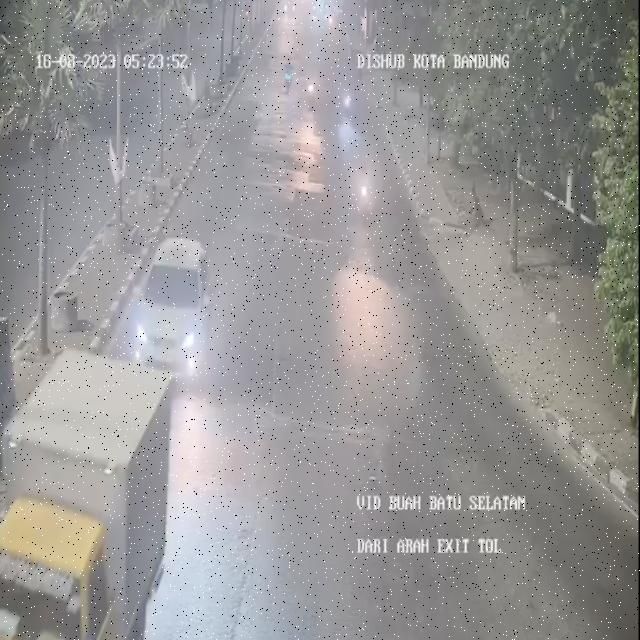cars: (134, 236, 211, 392)
motorcycle: (279, 57, 300, 97), (340, 79, 359, 122)
truck: (0, 351, 177, 639)
